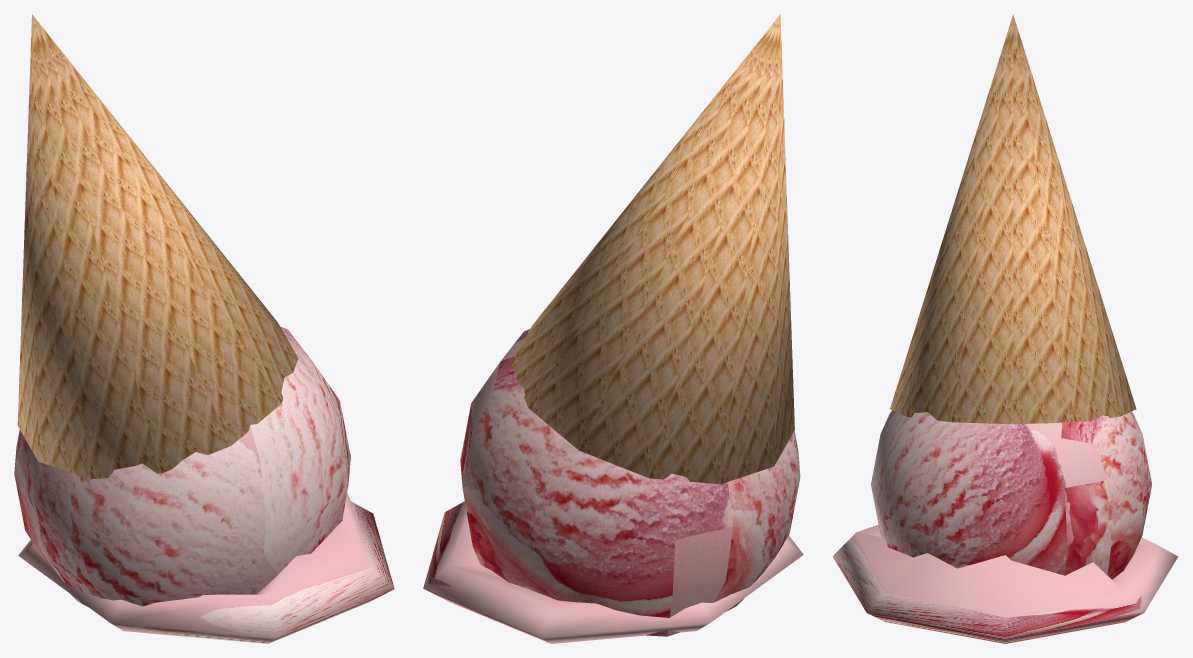
File: ScoopIce.fbx
3 views of the same model, side by side, from view 1: azimuth 30°, elevation 25°; view 2: azimuth 150°, elevation 25°; view 3: azimuth 270°, elevation 25° (orthographic). The views are drawn at different scales.
Parts seen in each view (by area): view 1: Cone, Cube.002, Torus; view 2: Cone, Cube.002, Torus; view 3: Cone, Cube.002, Torus.
Boxes of the visible parts, box(x1,y1,x2,y2) form: Cone: box(17, 14, 298, 479); Cube.002: box(14, 326, 350, 606); Torus: box(18, 493, 394, 643); Cone: box(511, 14, 794, 484); Cube.002: box(460, 329, 800, 636); Torus: box(423, 501, 803, 643); Cone: box(890, 14, 1136, 424); Cube.002: box(871, 409, 1151, 579); Torus: box(832, 525, 1178, 643).
Size of the model in its own units: 1574 by 2667 by 1666.
Materials: 2 (2 with a texture image).
